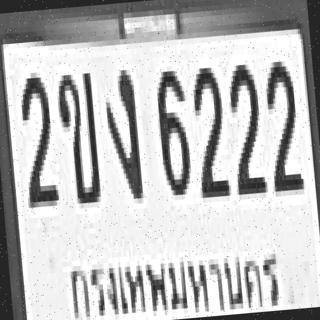A02: (53, 68, 99, 200)
A07: (101, 64, 141, 195)
N02: (16, 66, 57, 202), (262, 56, 302, 192), (226, 59, 264, 190), (189, 62, 227, 193)
N06: (153, 65, 190, 191)
P04: (61, 234, 287, 320)
